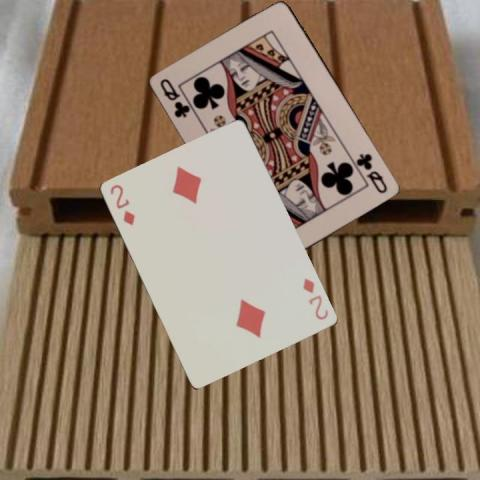2d: (300, 275, 330, 322), (107, 182, 137, 228)
Qc: (354, 151, 389, 195), (157, 76, 192, 120)
